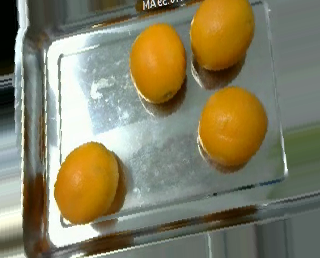Orange: (195, 86, 268, 168), (54, 140, 120, 225), (129, 23, 187, 103), (189, 1, 255, 71)
